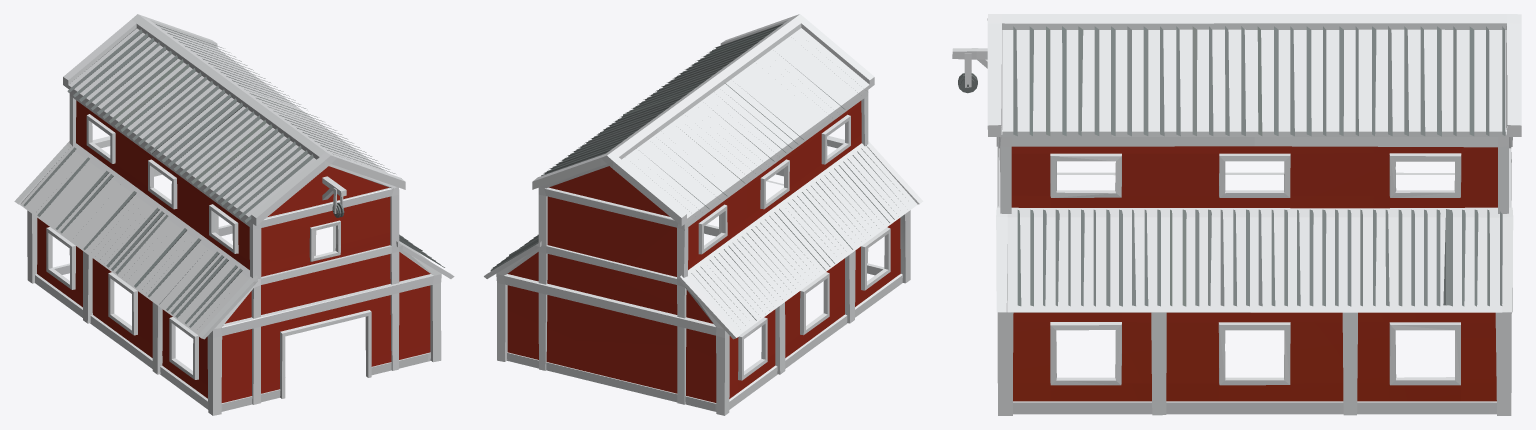
The model's file is barn_red.glb.
3 renders of one model, left to right at view 1: azimuth 30°, elevation 25°; view 2: azimuth 150°, elevation 25°; view 3: azimuth 270°, elevation 25°, orthographic. The views are drawn at different scales.
Visible parts, largest first — view 1: Barn; view 2: Barn; view 3: Barn.
Part boxes in pixels (<box>): Barn: <box>14,14,454,415</box>; Barn: <box>484,14,923,415</box>; Barn: <box>952,14,1521,415</box>.
Bounding box in the file's own units: 0.4989 × 0.4441 × 0.704.
1 material, 1 textured.
